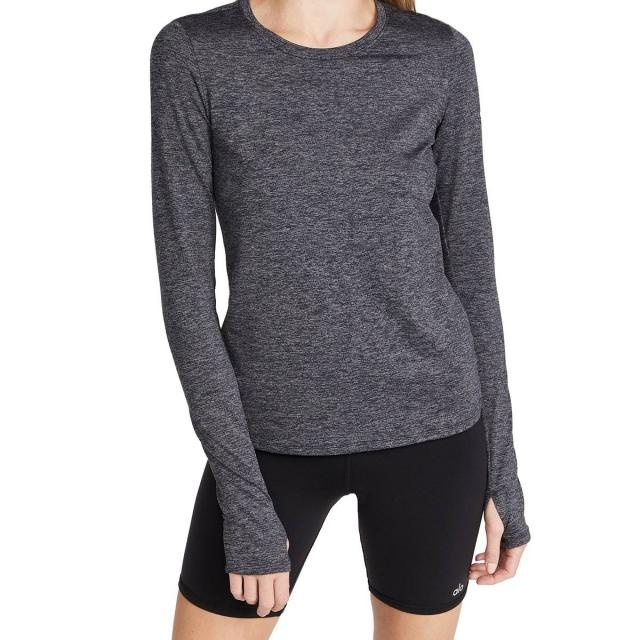Shorts: (171, 403, 490, 640)
